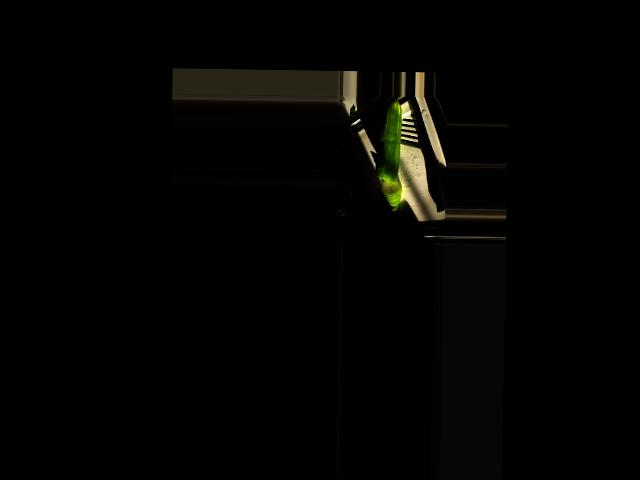cucumber: (375, 98, 402, 183)
